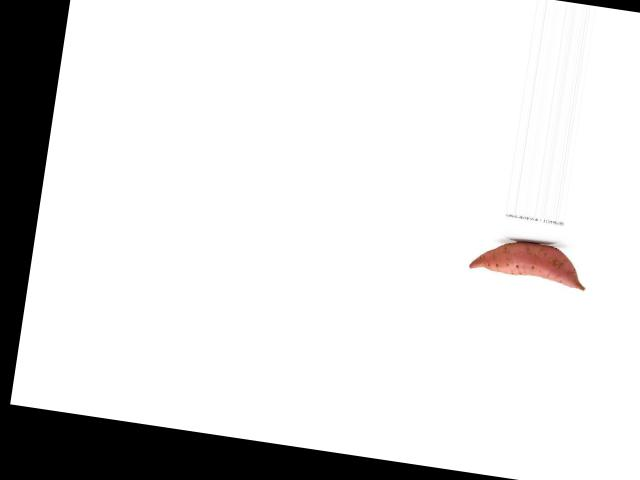sweet_potato: (466, 232, 591, 297)
